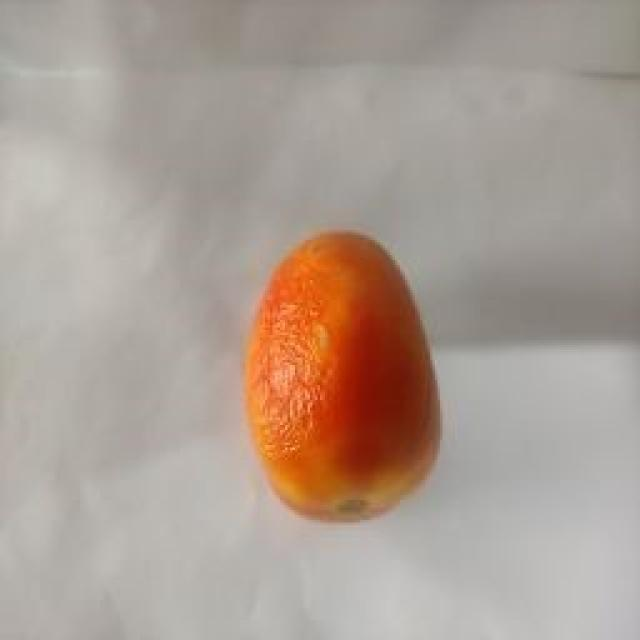unripe: (50, 55, 585, 553)
